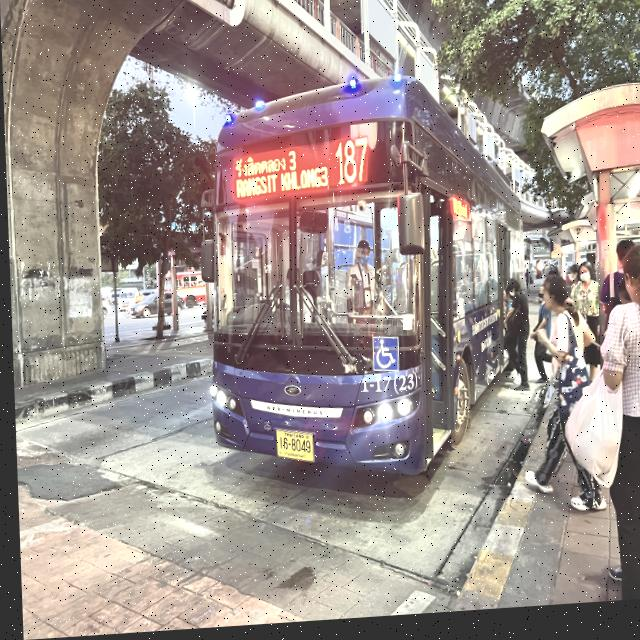Bus Line Number: (330, 138, 374, 196)
Bus Side Number: (353, 377, 416, 398)
Destination Sign: (226, 147, 330, 202)
TSB-Bus: (187, 61, 533, 507)
